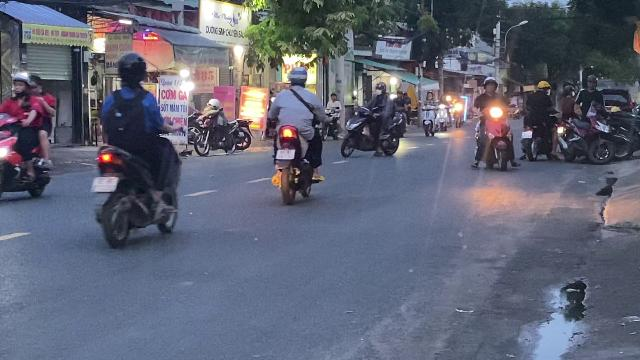helmet: (114, 52, 148, 88), (10, 72, 30, 94), (288, 66, 308, 86)
licenseplate: (91, 176, 119, 192), (276, 149, 294, 159)
motorcyclist: (89, 49, 183, 248), (266, 66, 326, 202), (0, 72, 56, 204)
nohelmet: (28, 73, 44, 95)
